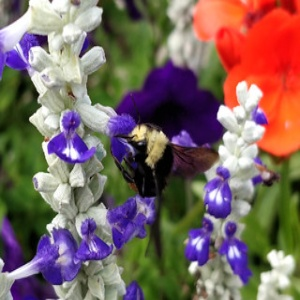bee: (129, 124, 211, 198)
